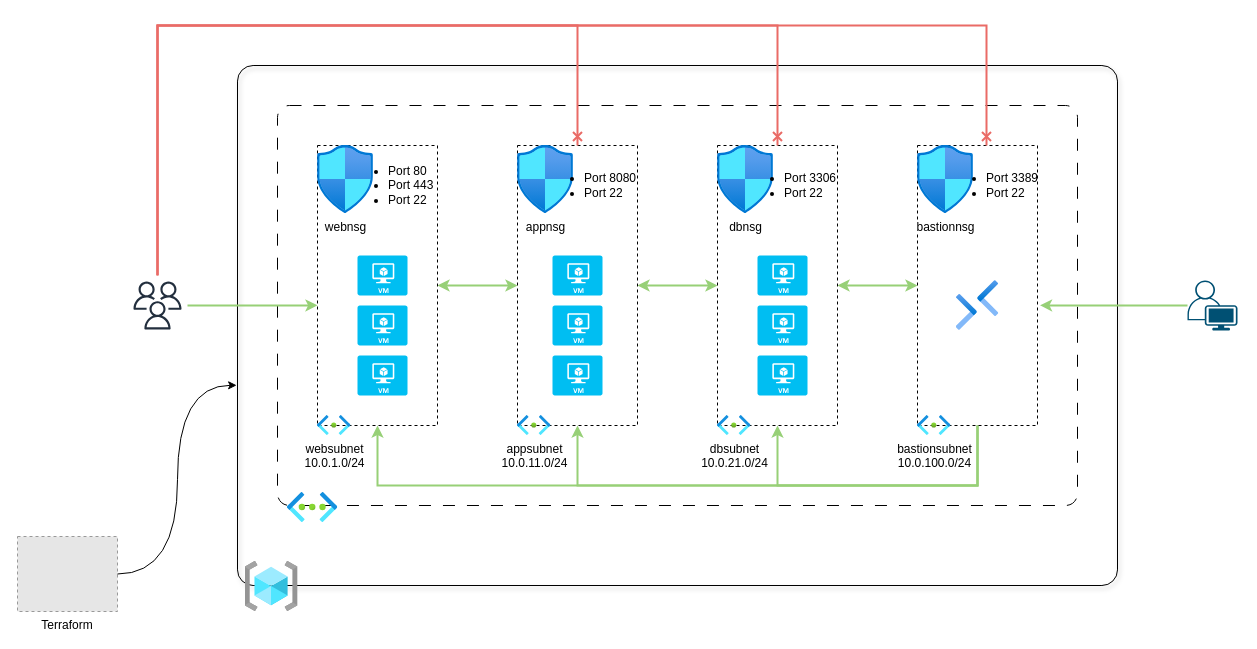
The diagram is 1257 pixels wide and 649 high, and some of its shapes have lost their labels. Grey dashed boxes stand in for pictures. The shapes that lost their labels are listed below. From the top down, each one's centre as x and y in pixels, then its label:
At (157,305): "Users".
At (977,305): "Bastion Service".
At (1212,305): "Developer".
At (312,507): "vnet-default 10.0.0.0/16".
At (271,586): "Resource Group".
